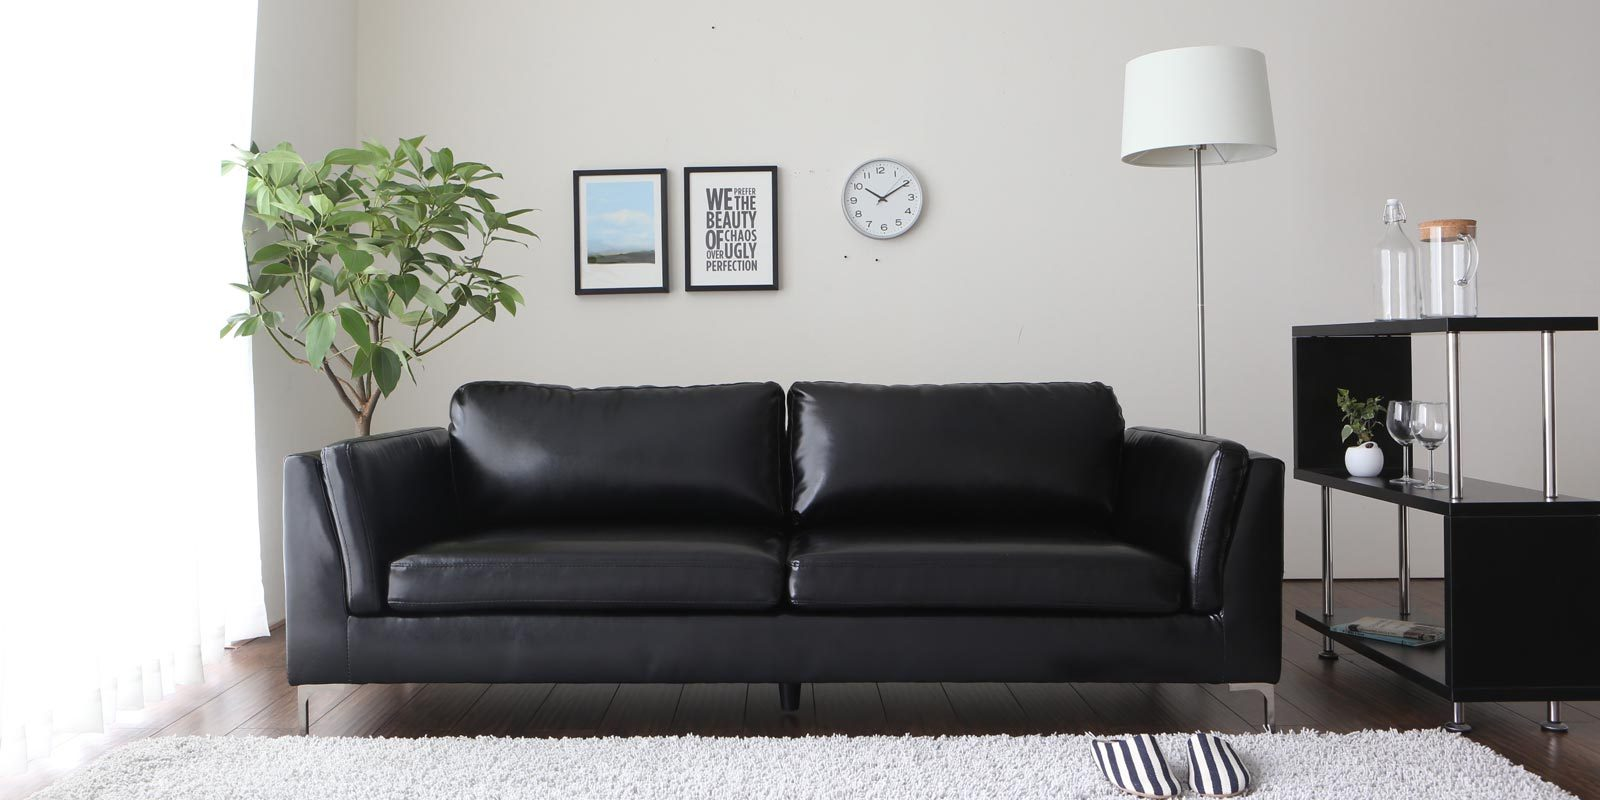Forma Three Seater Sofa in Black Colour by Zofa: (253, 369, 1323, 756)
